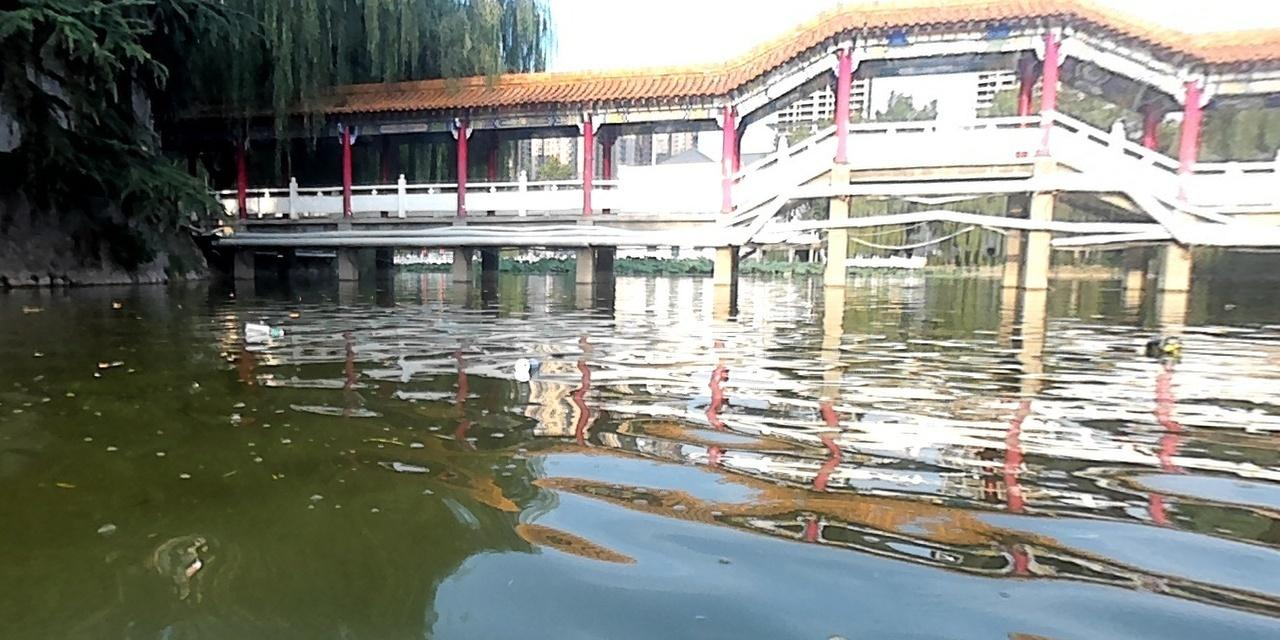bottle: (242, 319, 288, 337), (510, 353, 539, 373)
